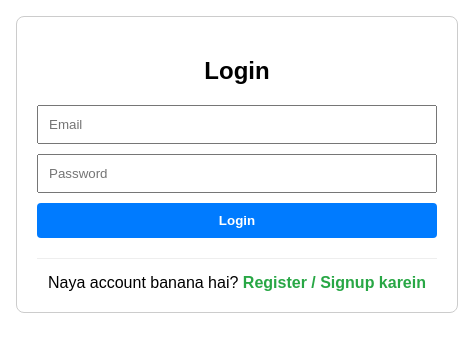
Test: Login Component › handles failed login and displays error message
In the field with placeholder "Email": (237, 124) 37,105 -> 437,144, type "john@example.com"
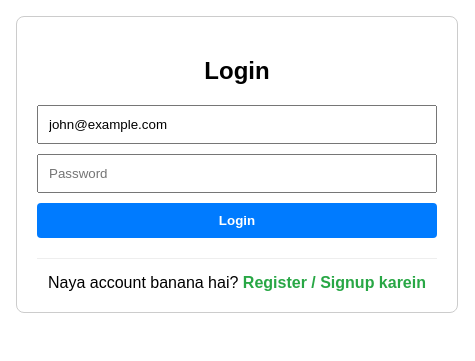
In the password field with placeholder "Password": (237, 173) 37,154 -> 437,193, type "wrongpass"
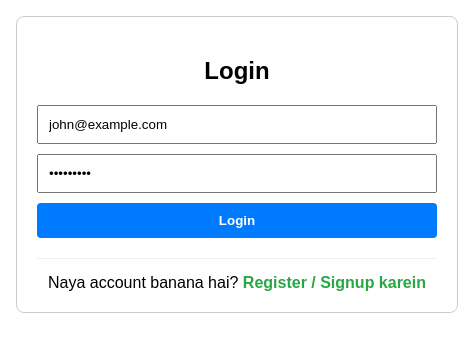
Click the button "Login": (237, 220) 37,203 -> 437,238
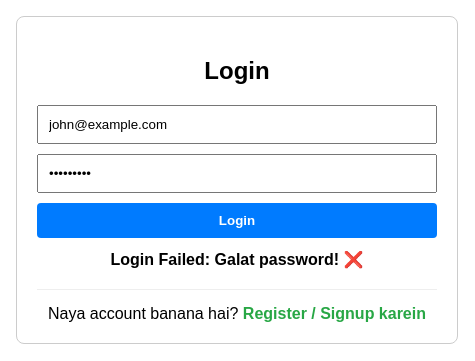
Expected: the text "Login Failed: Galat password! ❌" is shown, 110,251 -> 363,268
